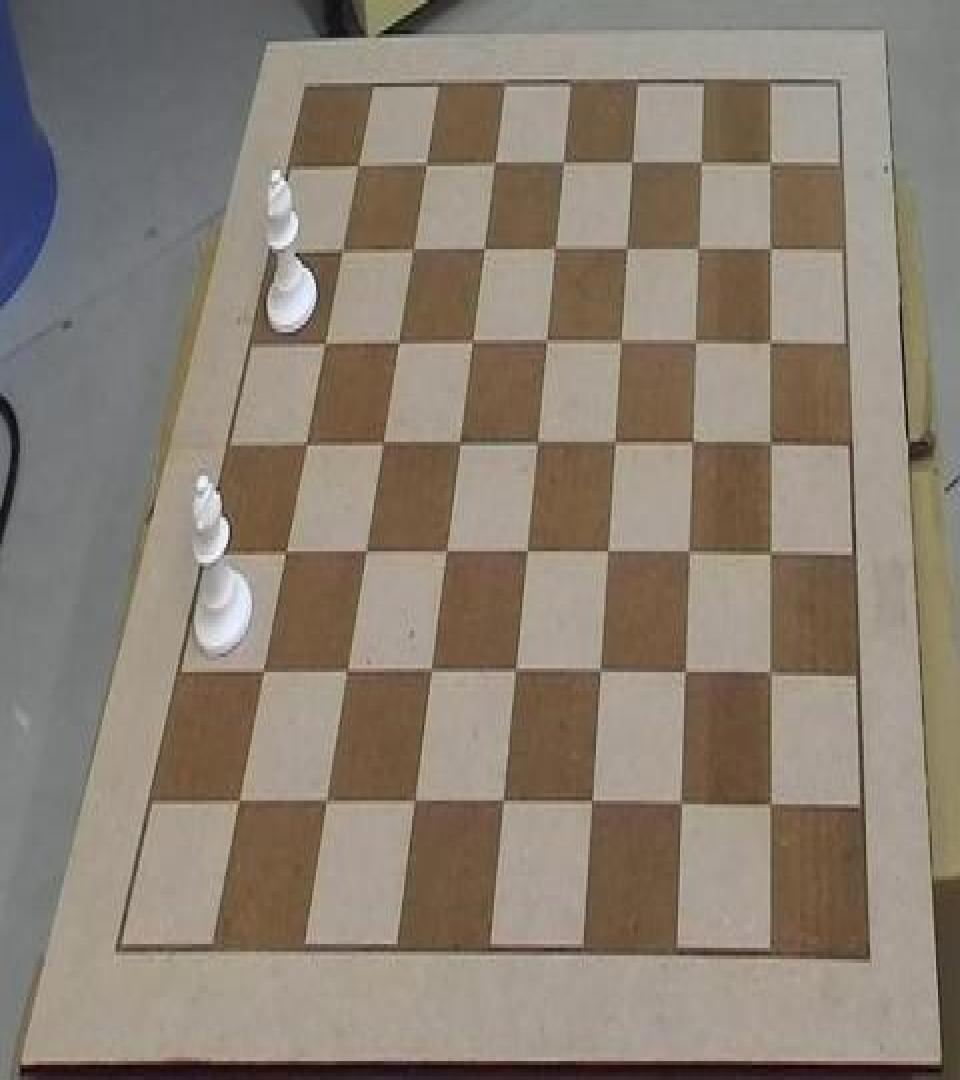xcorner: (761, 144, 781, 182), (692, 144, 712, 182), (622, 146, 642, 184), (553, 146, 573, 184), (485, 146, 505, 184), (416, 146, 436, 184), (348, 146, 368, 184), (761, 230, 781, 268), (689, 230, 709, 268), (617, 230, 637, 268), (546, 230, 566, 268), (474, 230, 494, 268), (403, 230, 423, 268), (332, 230, 352, 268), (762, 322, 782, 360), (686, 322, 706, 360), (612, 322, 632, 360), (537, 322, 557, 360), (463, 322, 483, 360), (389, 322, 409, 360), (315, 322, 335, 360), (762, 424, 782, 462), (684, 424, 704, 462), (605, 423, 625, 461), (528, 423, 548, 461), (450, 423, 470, 461), (373, 423, 393, 461), (296, 423, 316, 461), (762, 534, 782, 572), (680, 534, 700, 572), (599, 534, 619, 572), (517, 532, 537, 570), (437, 532, 457, 570), (356, 532, 376, 570), (276, 532, 296, 570), (763, 655, 783, 693), (677, 655, 697, 693), (591, 653, 611, 691), (506, 653, 526, 691), (422, 652, 442, 690), (337, 652, 357, 690), (253, 652, 273, 690), (763, 787, 783, 825), (673, 787, 693, 825), (583, 786, 603, 824), (494, 786, 514, 824), (405, 784, 425, 822), (317, 784, 337, 822), (229, 782, 249, 820)
